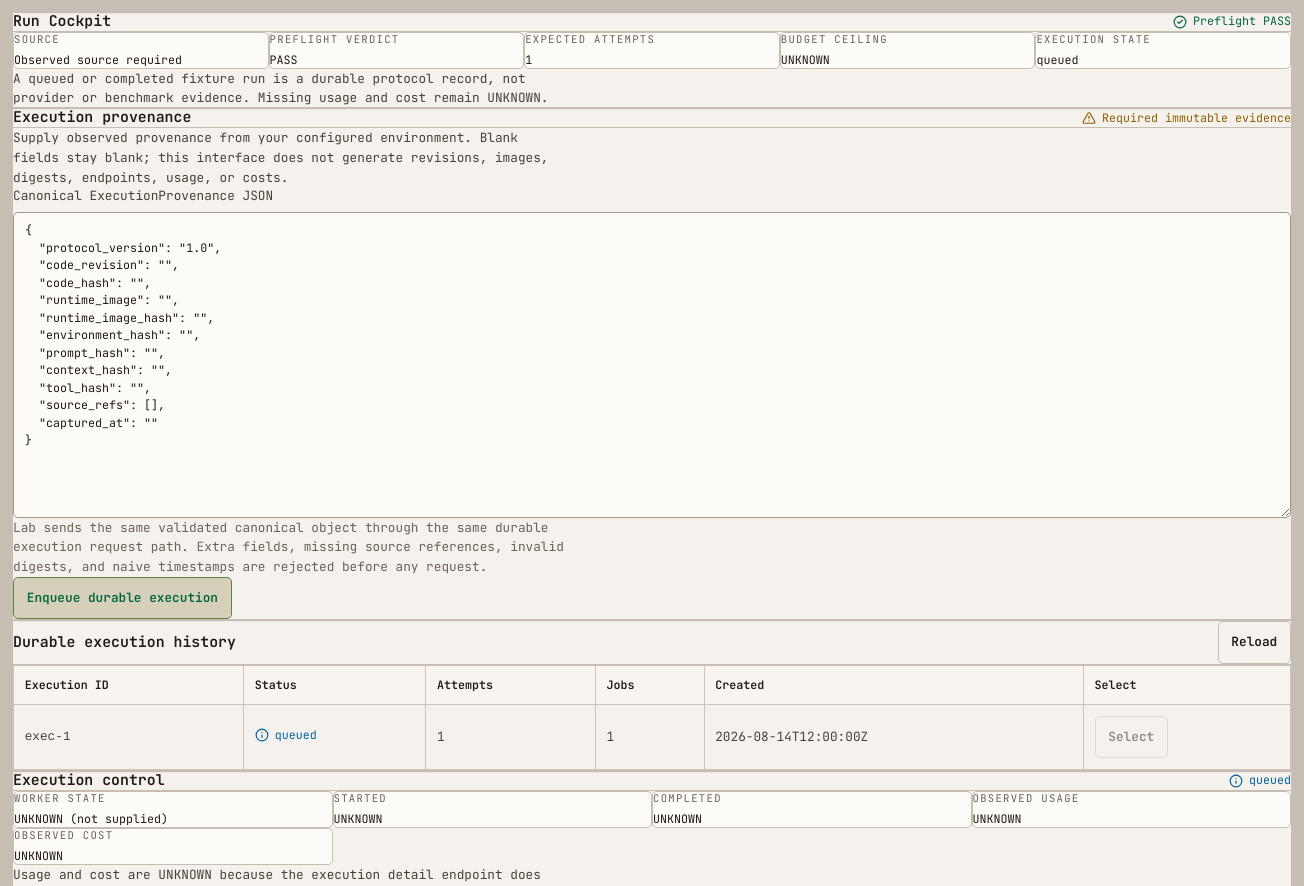
Scenario: ExecuteSurface › rejects invalid provenance locally and sends no request
The image size is (1304, 886).
Expected: the heading "Durable execution history" is shown, [13,634,236,652]
Click the button "Enqueue durable execution".
click(122, 598)  # box [13,577,232,620]
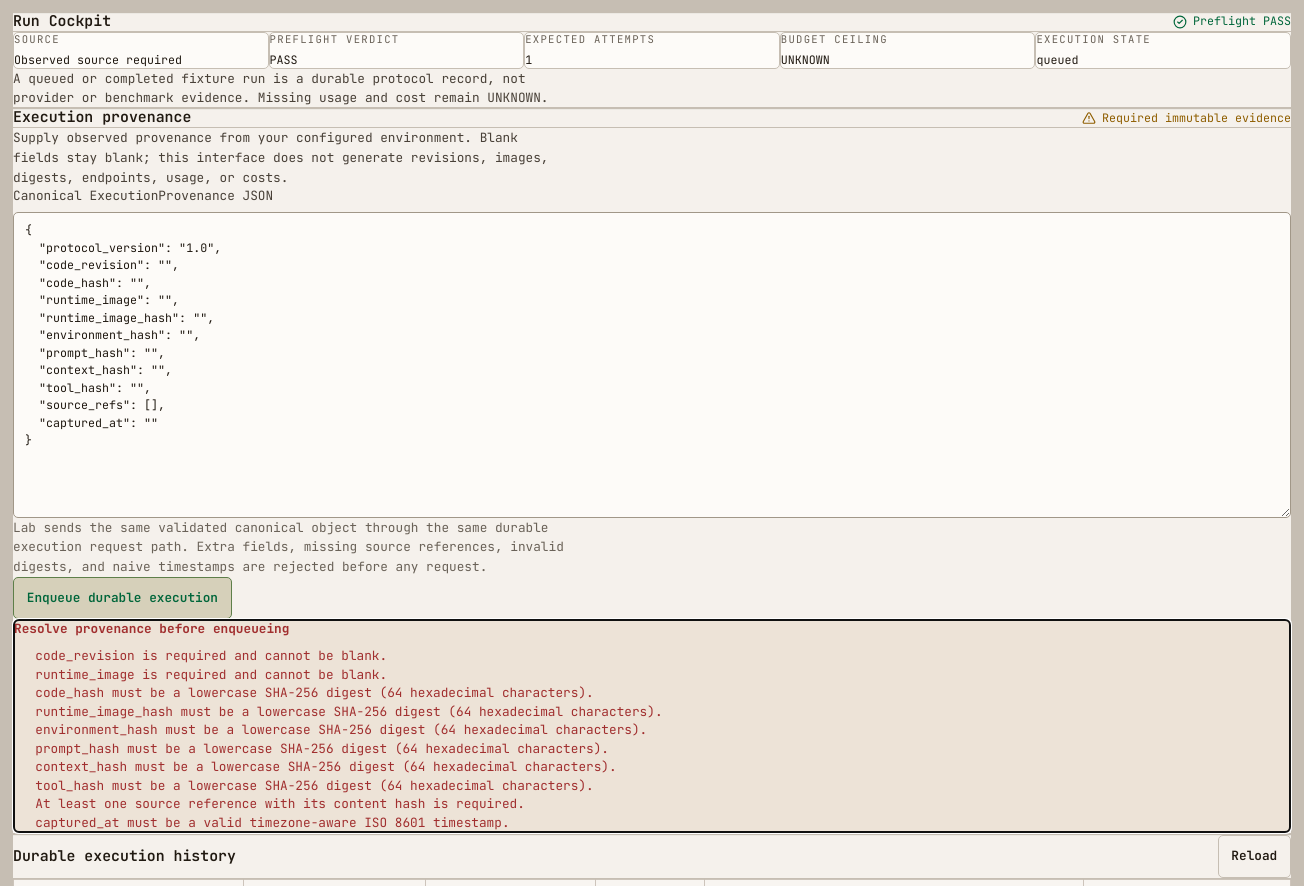
Result: the text "Resolve provenance before enqueueing" is shown at [14,620,289,638]
